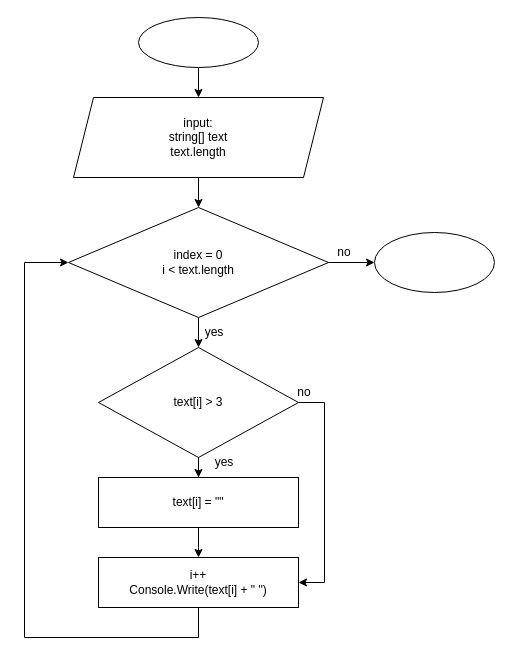
Image size: 512x663. Some labels were removed from this diagram. The shapes that lost their labels are listed below. From the top down, each one's box as (x1, y1, x2, y2) in pixels, then its label:
(138, 16, 258, 68): Start
(374, 232, 494, 292): Finish
